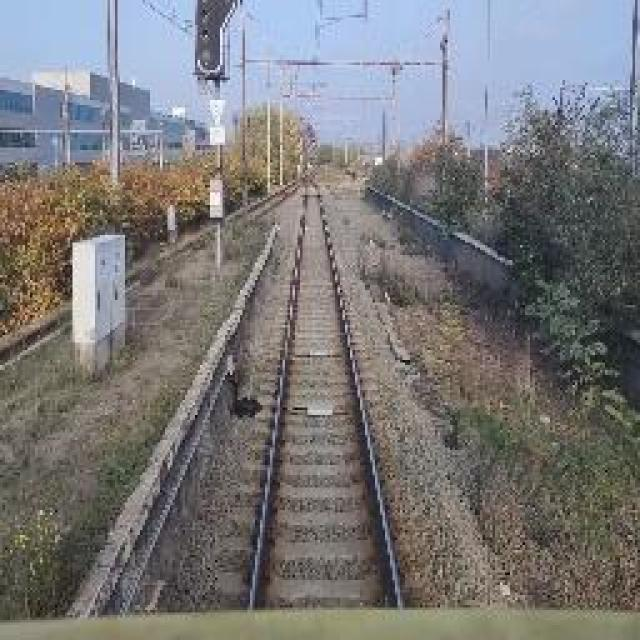rail: (205, 168, 440, 613)
